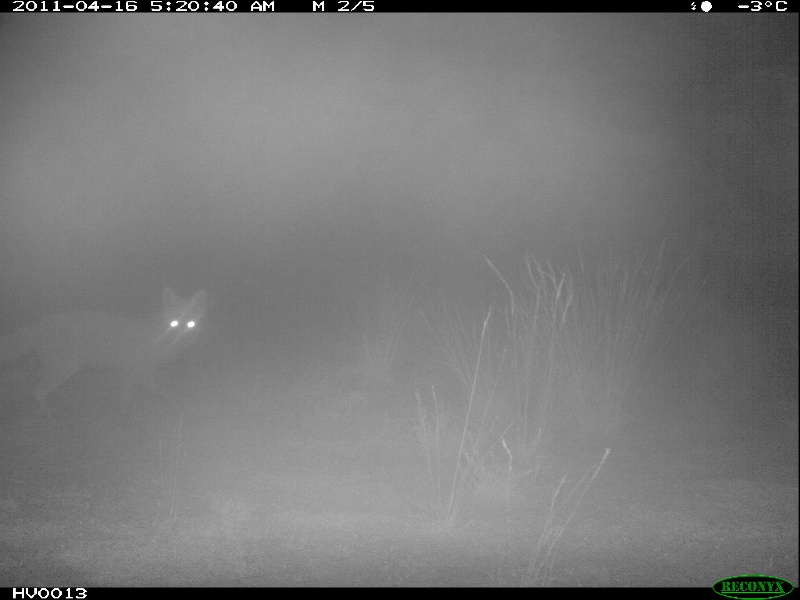fox: (7, 282, 217, 410)
